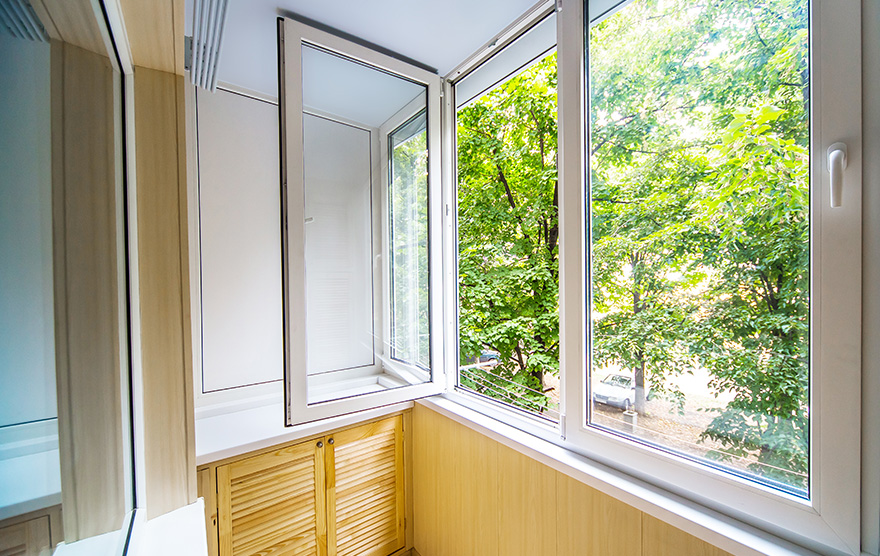Window: (370, 2, 822, 450), (294, 39, 435, 388)
